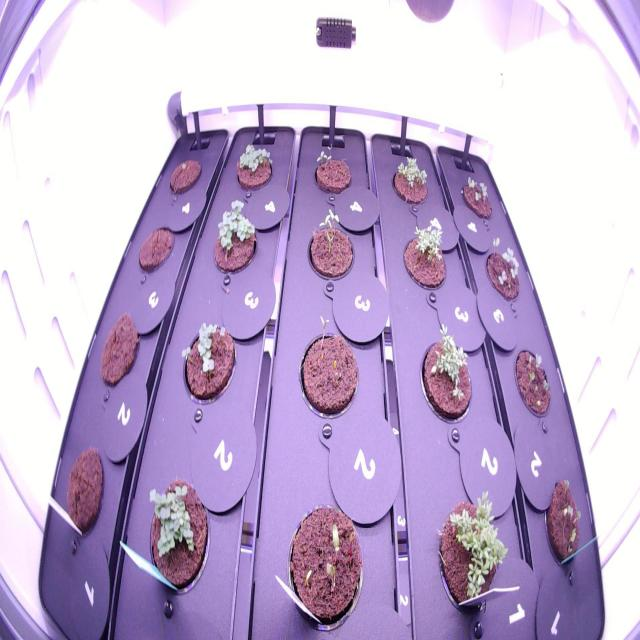germination: (278, 492, 367, 636), (431, 482, 516, 623), (142, 466, 214, 608), (295, 310, 363, 426), (413, 315, 477, 437), (173, 312, 240, 412), (538, 470, 586, 586), (205, 190, 260, 285), (399, 213, 451, 302), (305, 204, 357, 286), (510, 340, 556, 425), (481, 231, 527, 307), (228, 136, 277, 197), (308, 139, 356, 201), (388, 148, 432, 212), (458, 170, 498, 229)
pod: (60, 439, 110, 546), (94, 304, 142, 396), (134, 216, 178, 283), (164, 150, 207, 202)
